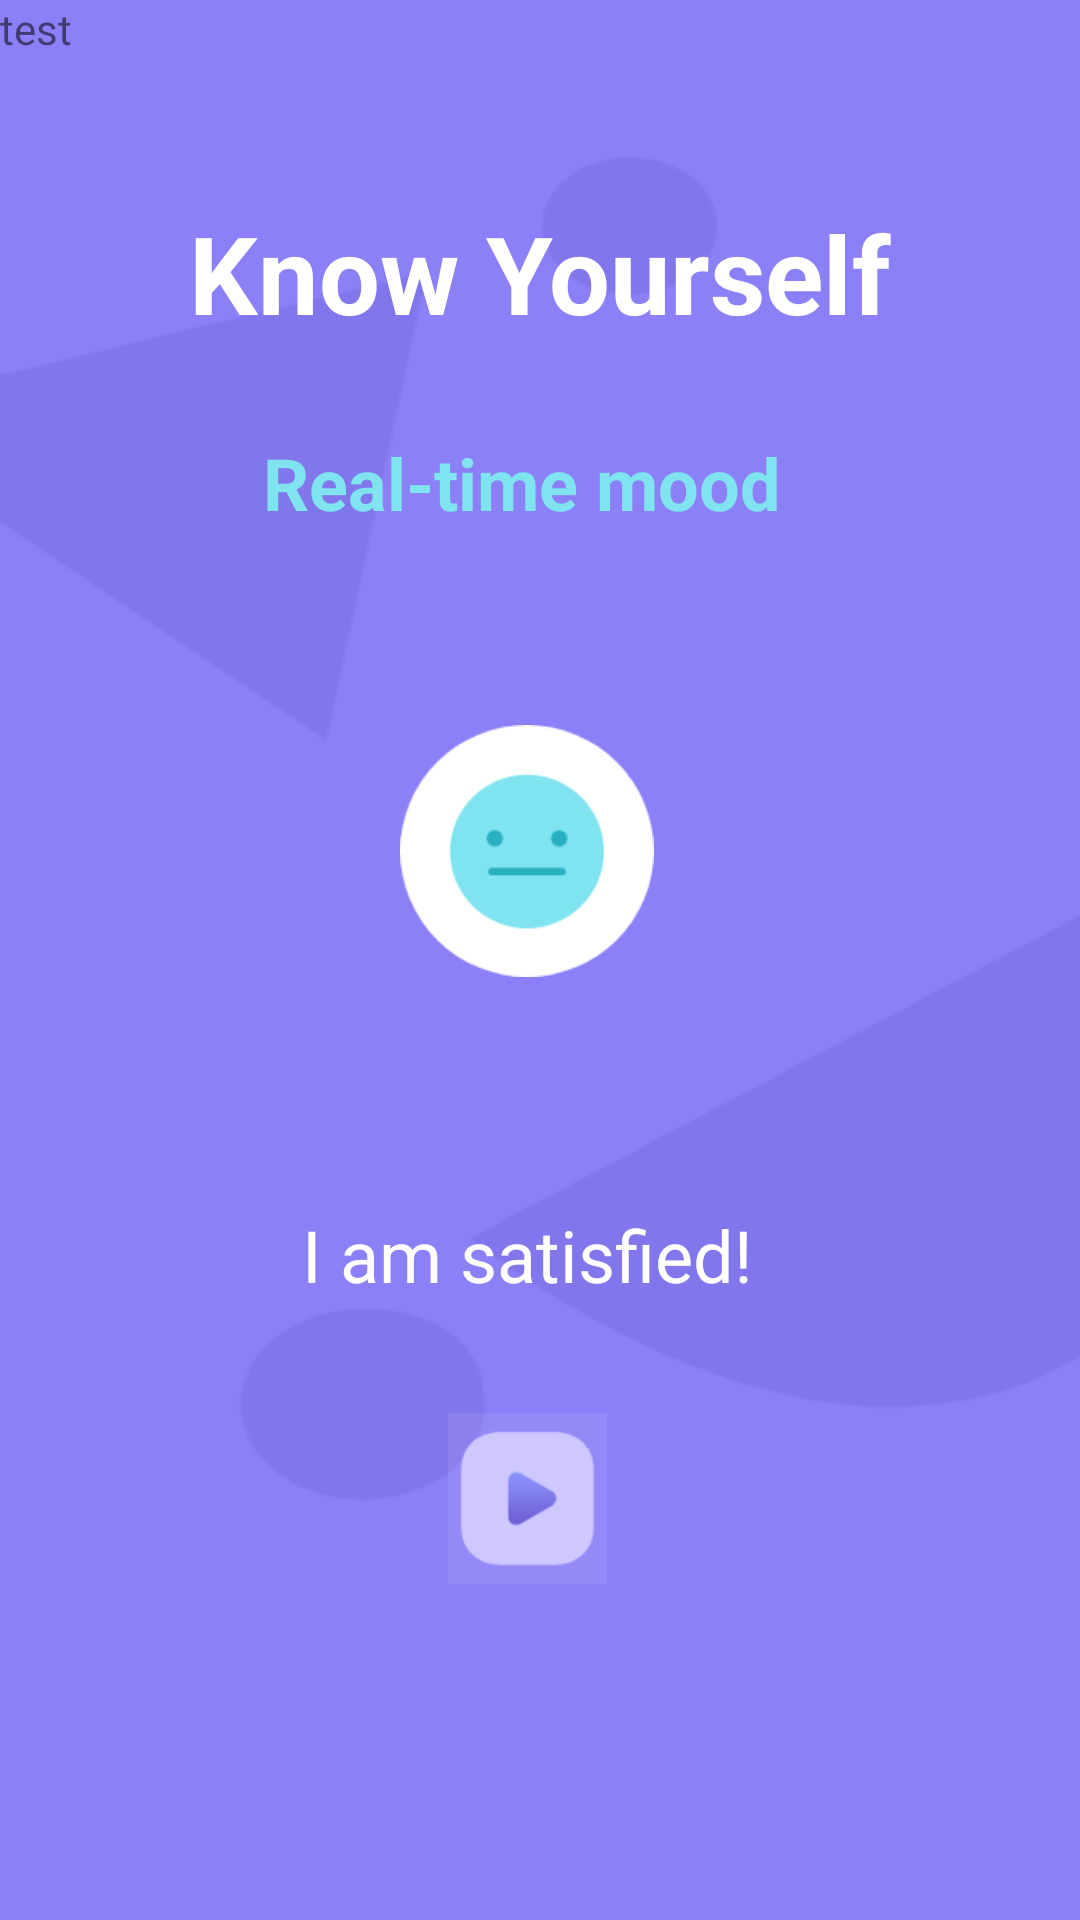

Icons on this 1080w x 1920h Android screen, each with its box as bbox=[x1, y1, x2, y2]:
emoji neutral: bbox=[400, 725, 654, 977]
